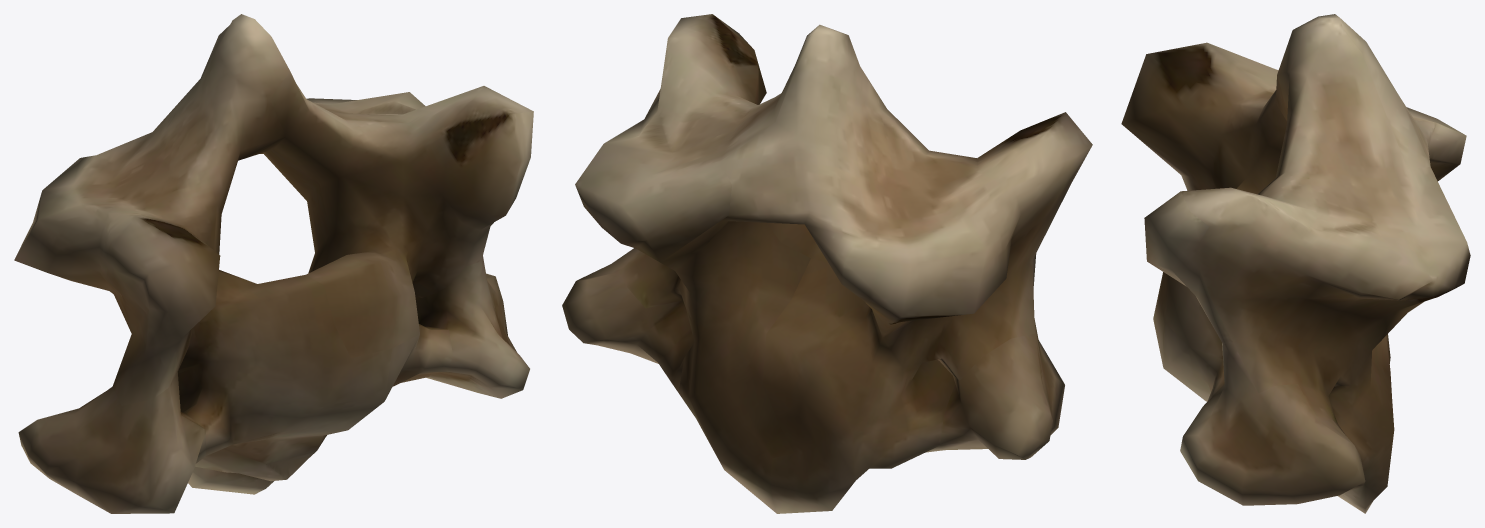
3 views of the same model, side by side, from view 1: azimuth 30°, elevation 25°; view 2: azimuth 150°, elevation 25°; view 3: azimuth 270°, elevation 25° (orthographic). The views are drawn at different scales.
Visible parts, largest first — view 1: C10:Group51183; view 2: C10:Group51183; view 3: C10:Group51183.
Part boxes in pixels (<box>): C10:Group51183: <box>14,14,533,513</box>; C10:Group51183: <box>562,14,1092,513</box>; C10:Group51183: <box>1121,14,1470,513</box>.
Bounding box in the file's own units: 34.13 × 33.87 × 22.14.
Materials: 1 (1 with a texture image).
